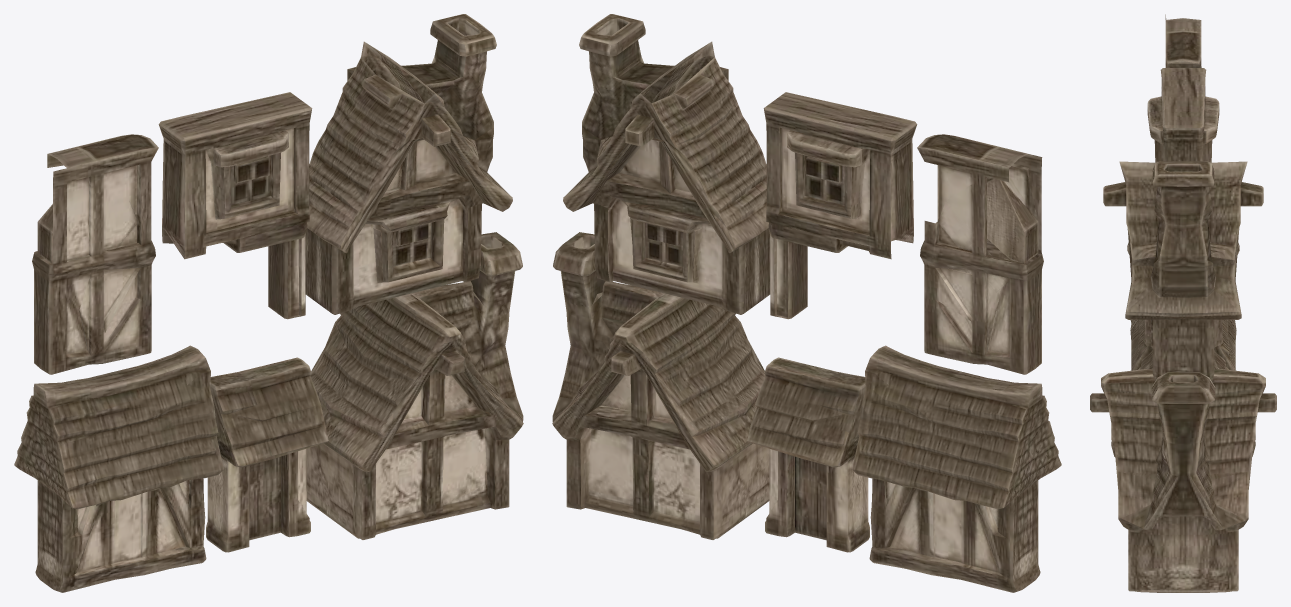
File: village_timberframe.glb
3 renders of one model, left to right at view 1: azimuth 30°, elevation 25°; view 2: azimuth 150°, elevation 25°; view 3: azimuth 270°, elevation 25°, orthographic. The views are drawn at different scales.
Size of the model in its own units: 1.9 by 1.78 by 0.7241.
Materials: 1 (1 with a texture image).
